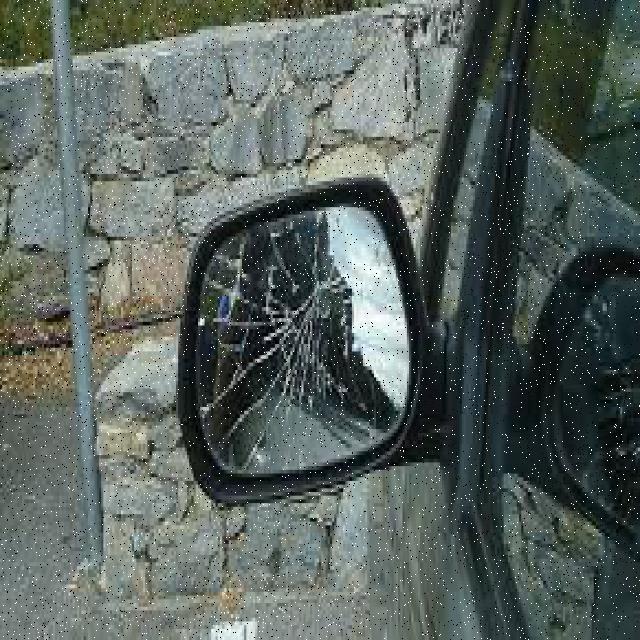Sidemirror-Damage: (162, 162, 436, 514)
